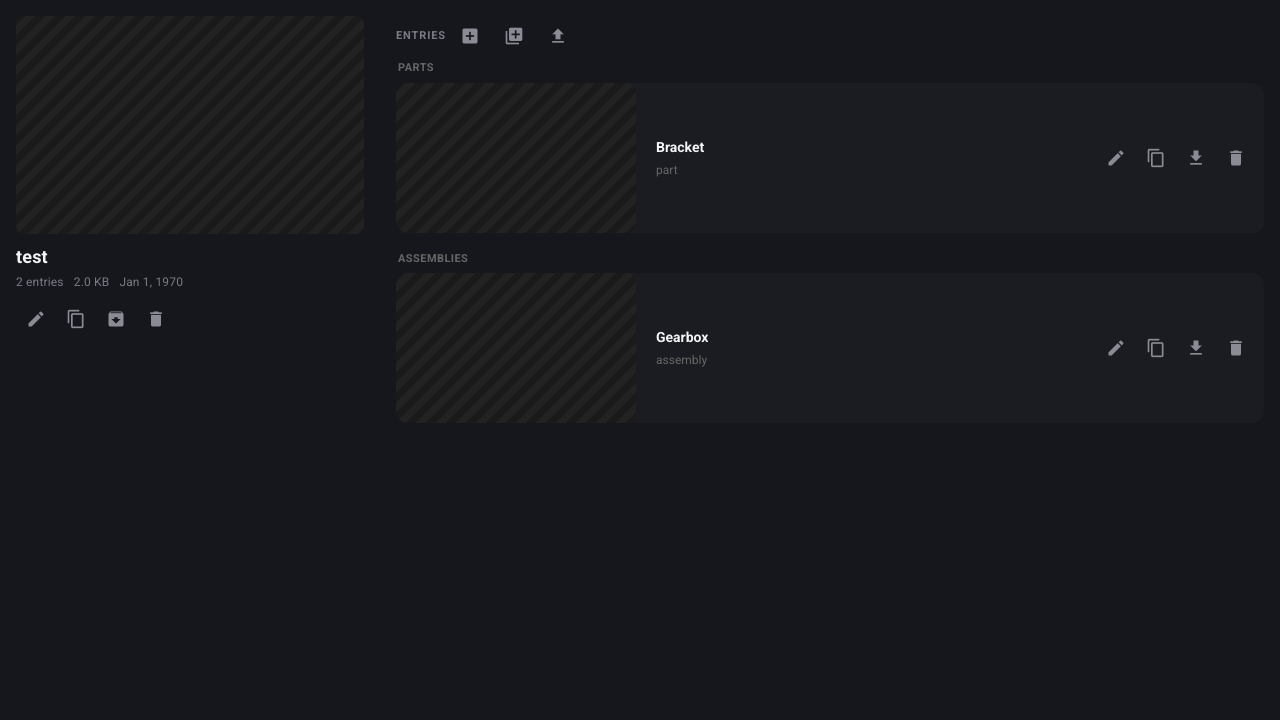
Test: WorkspaceView identity-card verbs › reports a failed add inside its own dialog, not behind it
Expected: the text "Bracket" is shown, [656,136,704,158]
Click the button named "New part".
click(470, 36)  # box [450,16,490,56]
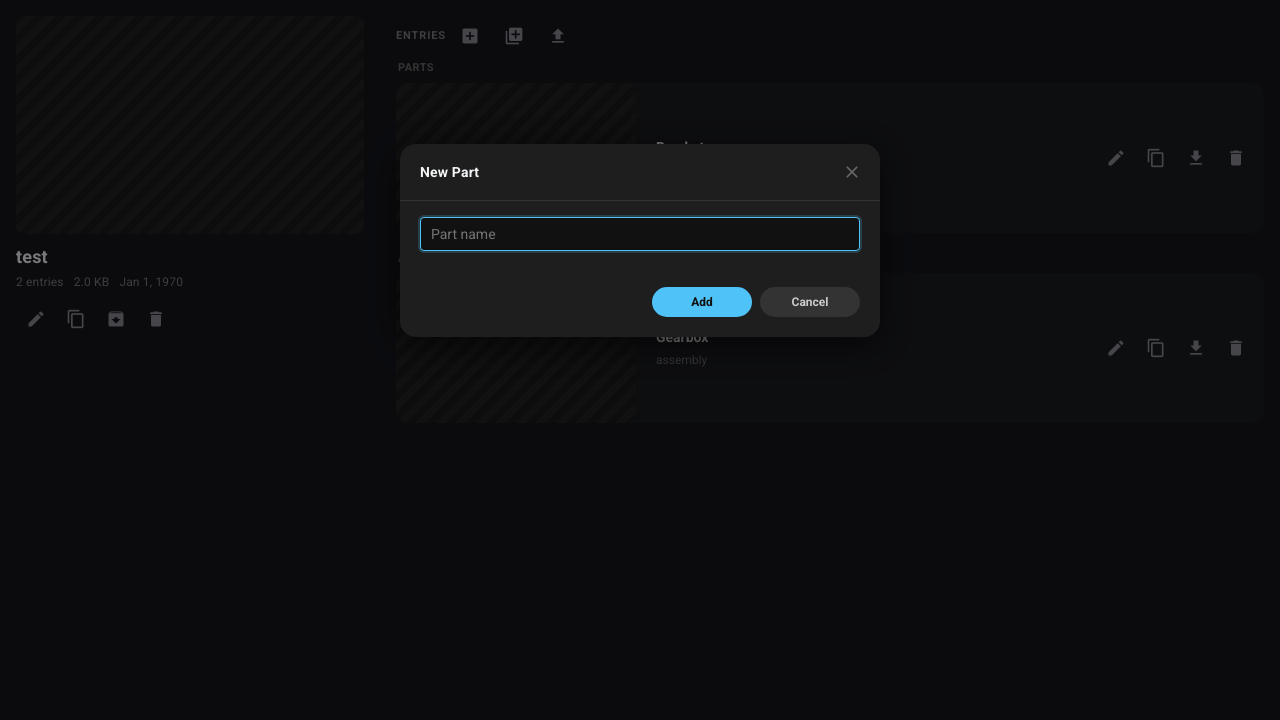
Type "Plate" into the field with placeholder "Part name".
click(640, 234); type("Plate")  # box [420,217,860,251]
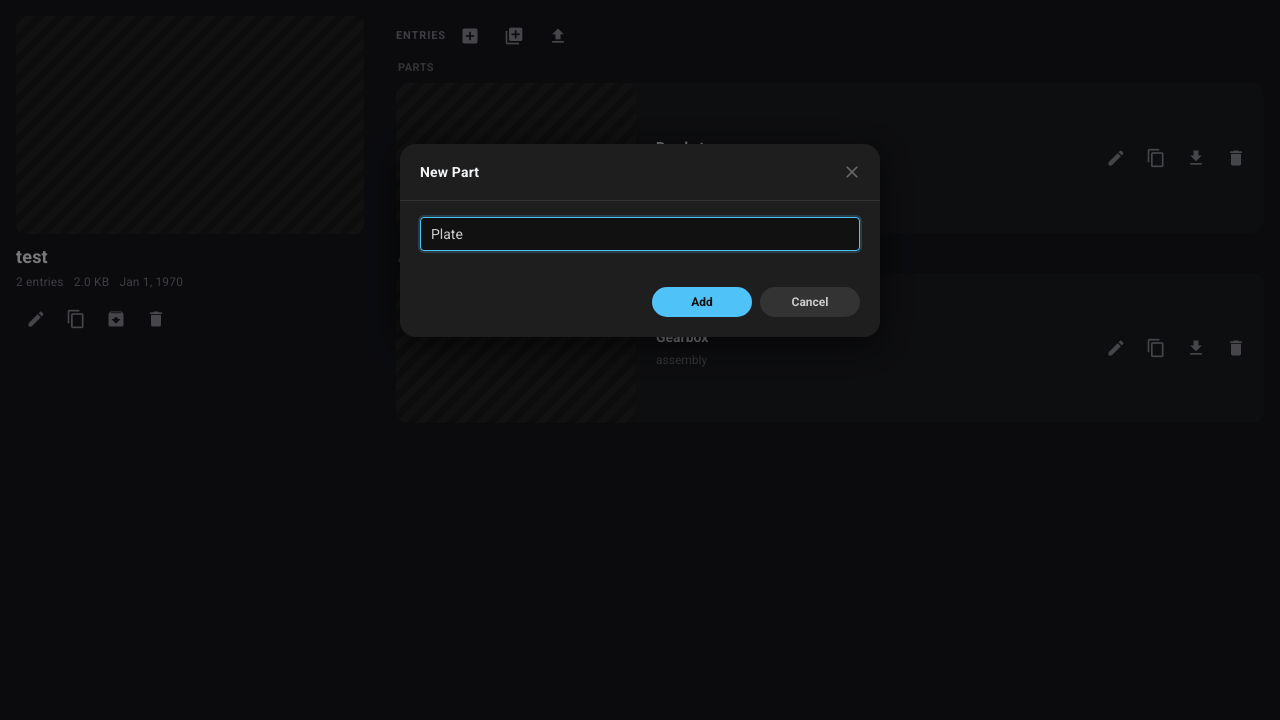
Click the button "Add".
click(702, 302)  # box [652,287,752,317]
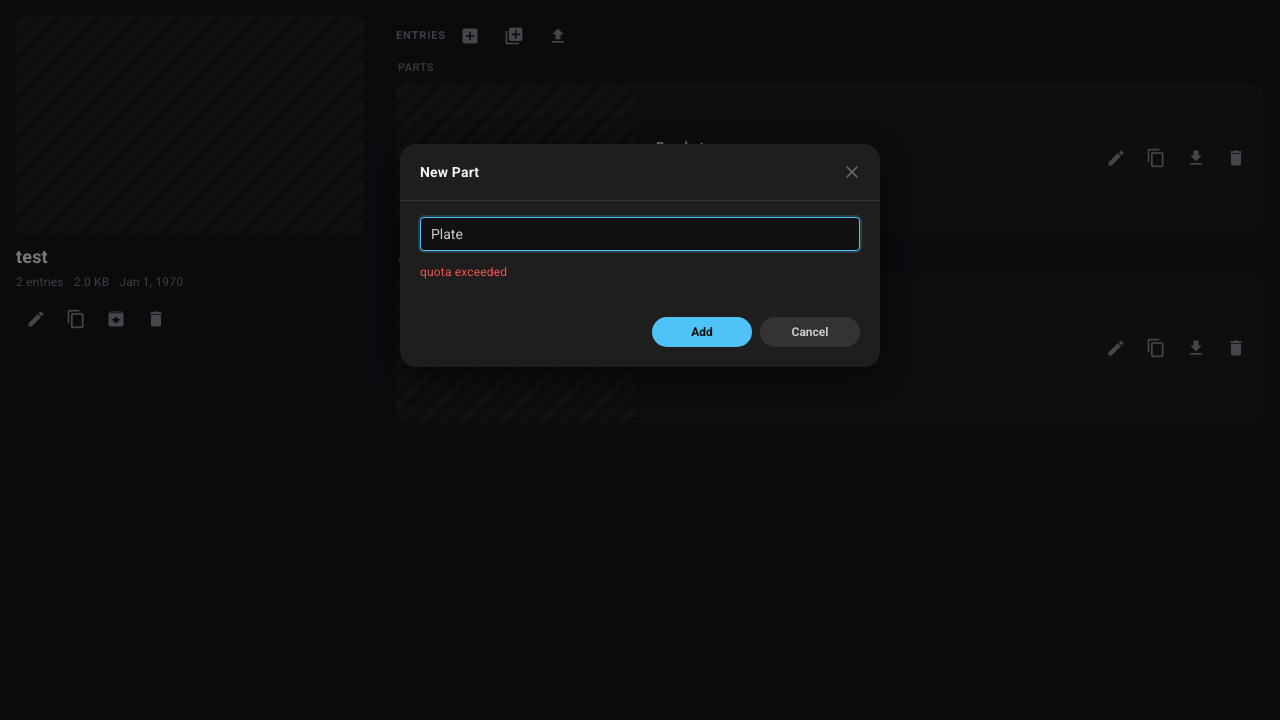
Now the heading "New Part" is shown, box [420,164,479,180]
Now the text "quota exceeded" is shown, box [420,265,507,279]
